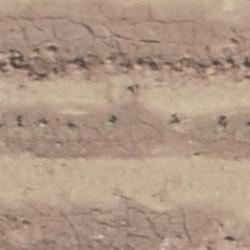cotton: (106, 120, 112, 127), (221, 120, 226, 128), (169, 116, 174, 123)
